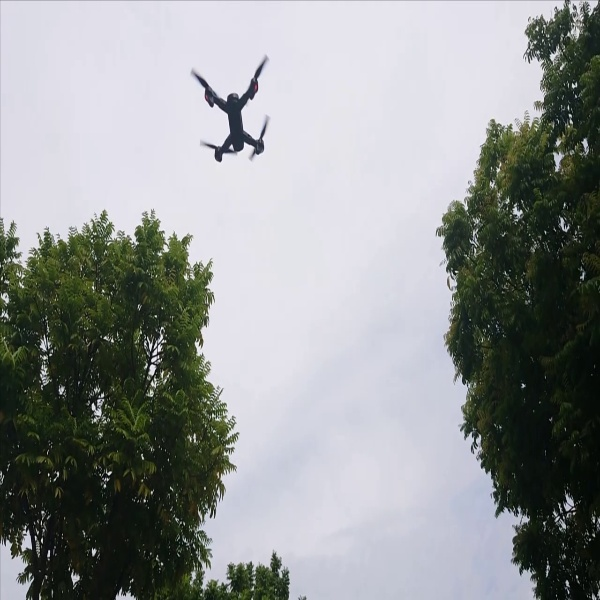drone: (179, 48, 281, 170)
